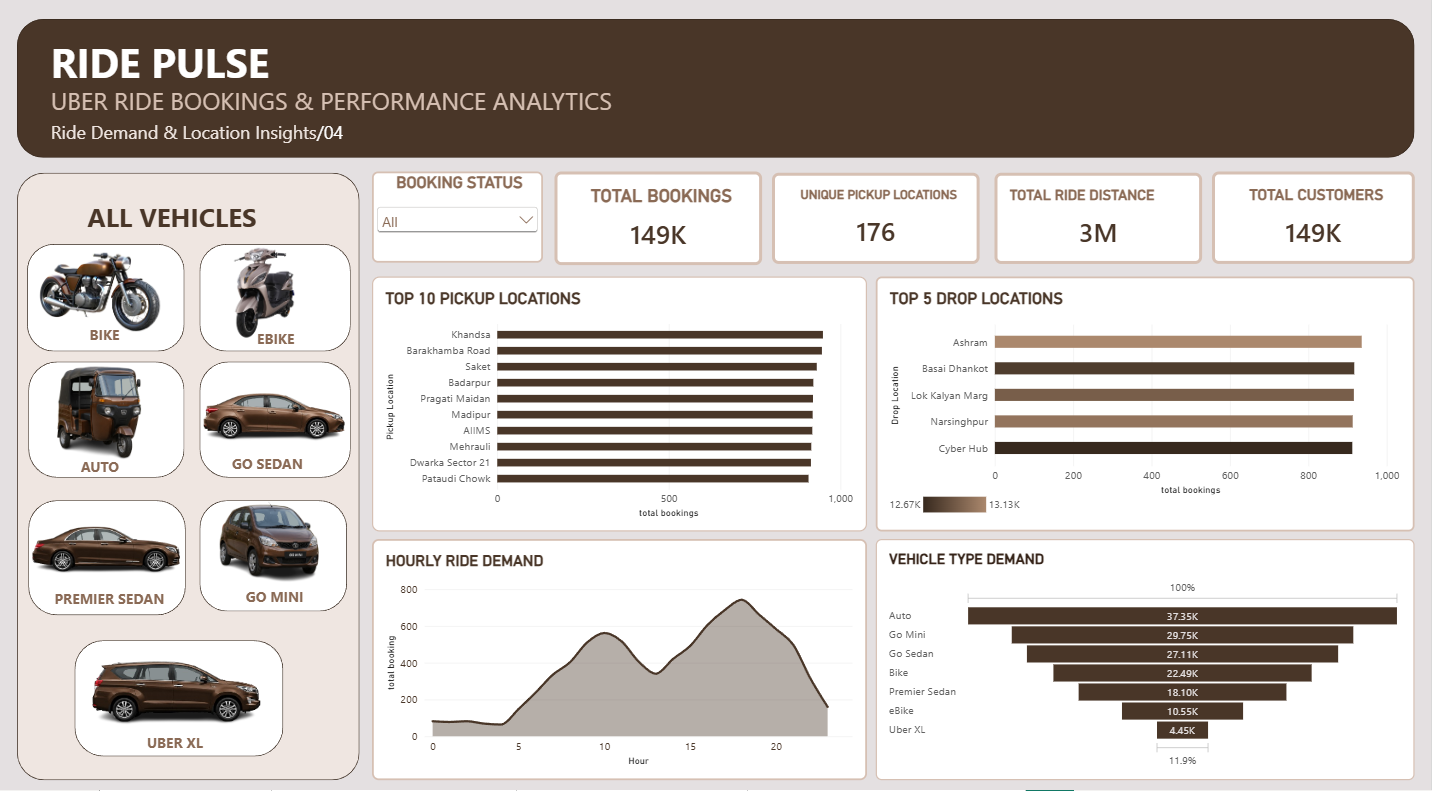

What the dashboard file says about the page in this screenshot:
{"tool":"powerbi","page":{"name":"Ride Demand & Location Insights","canvas":[1920,1080],"ordinal":3},"visuals":[{"type":"card","title":"TOTAL BOOKINGS","fields":{"Values":["ncr_ride_bookings_cleaned.Total Bookings"]},"box":[750,236.7,276.7,125],"z":0},{"type":"slicer","title":"VEHICLE TYPE","fields":{"Values":["ncr_ride_bookings_cleaned.Vehicle Type"]},"box":[525,48.3,224.3,99.7],"z":1000},{"type":"shape","box":[33.3,33.3,1863.3,185],"z":2000},{"type":"textbox","box":[77.5,55,1665,92.5],"z":3000},{"type":"textbox","box":[77.5,120,1744.3,73.8],"z":4000},{"type":"textbox","box":[77.5,167.5,1422.2,57],"z":5000},{"type":"card","title":"UNIQUE PICKUP LOCATIONS","fields":{"Values":["Count(ncr_ride_bookings_cleaned.Pickup Location)"]},"box":[1040,238.3,276.7,121.7],"z":6000},{"type":"card","title":"TOTAL RIDE DISTANCE","fields":{"Values":["Sum(ncr_ride_bookings_cleaned.Ride Distance)"]},"box":[1336.7,238.3,276.7,121.7],"z":7000},{"type":"card","title":"TOTAL CUSTOMERS","fields":{"Values":["ncr_ride_bookings_cleaned.Total Customers"]},"box":[1626.7,236.7,270,123.3],"z":8000},{"type":"image","title":"uber xl","box":[130,853.8,255,142.5],"z":8006,"group":"g6"},{"type":"image","title":"auto","box":[85.8,473.3,114.8,175],"z":8007,"group":"g1"},{"type":"image","title":"go mini","box":[275,645,187.3,152.5],"z":8008,"group":"g2"},{"type":"image","title":"premium sedan","box":[46.7,661.7,210,168.3],"z":8009,"group":"g5"},{"type":"image","title":"go sedan","box":[276.7,490,206.4,154.1],"z":8010,"group":"g3"},{"type":"image","title":"ebike","box":[283.3,316.7,180.8,163.3],"z":8011,"group":"g7"},{"type":"image","title":"bike","box":[35.8,316.7,210,160],"z":8012,"group":"g4"},{"type":"actionButton","title":"auto Button","box":[73.3,498.1,145,120.1],"z":8013,"group":"g1"},{"type":"actionButton","title":"mini button","box":[283.1,660,192.5,120],"z":8015,"group":"g2"},{"type":"actionButton","title":"go sedan button","box":[294.1,516.3,194.8,92.1],"z":8017,"group":"g3"},{"type":"actionButton","title":"bike button","box":[28.3,336.7,205,105],"z":8019,"group":"g4"},{"type":"actionButton","title":"premiur sedan button","box":[72.3,686.6,151.7,105.9],"z":8021,"group":"g5"},{"type":"actionButton","title":"uber xl button","box":[129.4,861.9,222.5,142.5],"z":8023,"group":"g6"},{"type":"actionButton","title":"ebike button","box":[284.9,342.7,177.7,123.1],"z":8025,"group":"g7"},{"type":"clusteredBarChart","title":"TOP 10 PICKUP LOCATIONS","fields":{"Category":["ncr_ride_bookings_cleaned.Pickup Location"],"Y":["Count(ncr_ride_bookings_cleaned.Booking ID)"]},"box":[506.7,376.7,660,340],"z":9000},{"type":"areaChart","title":"HOURLY RIDE DEMAND","fields":{"Category":["ncr_ride_bookings_cleaned.Hour"],"Y":["Count(ncr_ride_bookings_cleaned.Booking ID)"]},"box":[506.7,726.7,660,321.7],"z":10000},{"type":"barChart","title":"TOP 5 DROP LOCATIONS","fields":{"Category":["ncr_ride_bookings_cleaned.Drop Location"],"Y":["Count(ncr_ride_bookings_cleaned.Booking ID)"]},"box":[1178,376,718,340],"z":11000},{"type":"slicer","title":"BOOKING STATUS","fields":{"Values":["ncr_ride_bookings_cleaned.Booking Status"]},"box":[506.7,236.7,228.3,121.7],"z":12000},{"type":"shape","box":[33.3,238.3,456.7,810],"z":13000},{"type":"shape","box":[46.7,333.3,210,143.3],"z":14000},{"type":"shape","box":[276.7,333.3,201.7,143.3],"z":15000},{"type":"shape","box":[48.3,490,208.3,155],"z":16000},{"type":"shape","box":[276.7,490,201.7,155],"z":17000},{"type":"shape","box":[48.3,675,210,153.3],"z":18000},{"type":"shape","box":[276.7,675,196.7,148.3],"z":19000},{"type":"shape","box":[110,861.7,278.3,155],"z":20000},{"type":"group","id":"g1","title":"Group 1","box":[73.3,473.3,145,175],"z":21000},{"type":"group","id":"g2","title":"Group 2","box":[275,645,200,153.3],"z":22000},{"type":"group","id":"g3","title":"Group 3","box":[276.7,490,213.3,155],"z":23000},{"type":"group","id":"g4","title":"Group 4","box":[28.3,316.7,216.7,160],"z":24000},{"type":"group","id":"g5","title":"Group 5","box":[46.7,661.7,210,168.3],"z":25000},{"type":"group","id":"g6","title":"Group 6","box":[129.4,853.8,255.6,150.6],"z":26000},{"type":"group","id":"g7","title":"Group 7","box":[283.3,316.7,181.7,163.3],"z":27000},{"type":"actionButton","box":[110,266.7,260,58.3],"z":28000},{"type":"textbox","box":[130,441.7,71.7,31.7],"z":29000},{"type":"textbox","box":[353.3,446.7,78.3,38.3],"z":30000},{"type":"textbox","box":[118.3,616.7,83.3,31.7],"z":31000},{"type":"textbox","box":[320,613.3,111.7,31.7],"z":32000},{"type":"textbox","box":[83.3,793.3,151.7,45],"z":33000},{"type":"textbox","box":[338.3,790,98.3,33.3],"z":34000},{"type":"textbox","box":[206.7,985,86.7,31.7],"z":35000},{"type":"funnel","title":"VEHICLE TYPE DEMAND","fields":{"Category":["ncr_ride_bookings_cleaned.Vehicle Type"],"Y":["Count(ncr_ride_bookings_cleaned.Booking ID)"]},"box":[1178.3,726.7,718.3,321.7],"z":37000}]}

Visuals, with their boxes in screenshot pixels (x1, y1, x2, y2), scaled from the page's 1920x1080 canvas onto the 1432x791 screenshot:
"TOTAL BOOKINGS" card: bbox=(559, 173, 766, 265)
"VEHICLE TYPE" slicer: bbox=(392, 35, 559, 108)
shape: bbox=(25, 24, 1415, 160)
textbox: bbox=(58, 40, 1300, 108)
textbox: bbox=(58, 88, 1359, 142)
textbox: bbox=(58, 123, 1119, 164)
"UNIQUE PICKUP LOCATIONS" card: bbox=(776, 175, 982, 264)
"TOTAL RIDE DISTANCE" card: bbox=(997, 175, 1203, 264)
"TOTAL CUSTOMERS" card: bbox=(1213, 173, 1415, 264)
"uber xl" image: bbox=(97, 625, 287, 730)
"auto" image: bbox=(64, 347, 150, 475)
"go mini" image: bbox=(205, 472, 345, 584)
"premium sedan" image: bbox=(35, 485, 191, 608)
"go sedan" image: bbox=(206, 359, 360, 472)
"ebike" image: bbox=(211, 232, 346, 352)
"bike" image: bbox=(27, 232, 183, 349)
"auto Button" actionButton: bbox=(55, 365, 163, 453)
"mini button" actionButton: bbox=(211, 483, 355, 571)
"go sedan button" actionButton: bbox=(219, 378, 365, 446)
"bike button" actionButton: bbox=(21, 247, 174, 324)
"premiur sedan button" actionButton: bbox=(54, 503, 167, 580)
"uber xl button" actionButton: bbox=(97, 631, 262, 736)
"ebike button" actionButton: bbox=(212, 251, 345, 341)
"TOP 10 PICKUP LOCATIONS" clusteredBarChart: bbox=(378, 276, 870, 525)
"HOURLY RIDE DEMAND" areaChart: bbox=(378, 532, 870, 768)
"TOP 5 DROP LOCATIONS" barChart: bbox=(879, 275, 1414, 524)
"BOOKING STATUS" slicer: bbox=(378, 173, 548, 262)
shape: bbox=(25, 175, 365, 768)
shape: bbox=(35, 244, 191, 349)
shape: bbox=(206, 244, 357, 349)
shape: bbox=(36, 359, 191, 472)
shape: bbox=(206, 359, 357, 472)
shape: bbox=(36, 494, 193, 607)
shape: bbox=(206, 494, 353, 603)
shape: bbox=(82, 631, 290, 745)
"Group 1" group: bbox=(55, 347, 163, 475)
"Group 2" group: bbox=(205, 472, 354, 585)
"Group 3" group: bbox=(206, 359, 365, 472)
"Group 4" group: bbox=(21, 232, 183, 349)
"Group 5" group: bbox=(35, 485, 191, 608)
"Group 6" group: bbox=(97, 625, 287, 736)
"Group 7" group: bbox=(211, 232, 347, 352)
actionButton: bbox=(82, 195, 276, 238)
textbox: bbox=(97, 324, 150, 347)
textbox: bbox=(264, 327, 322, 355)
textbox: bbox=(88, 452, 150, 475)
textbox: bbox=(239, 449, 322, 472)
textbox: bbox=(62, 581, 175, 614)
textbox: bbox=(252, 579, 326, 603)
textbox: bbox=(154, 721, 219, 745)
"VEHICLE TYPE DEMAND" funnel: bbox=(879, 532, 1415, 768)
